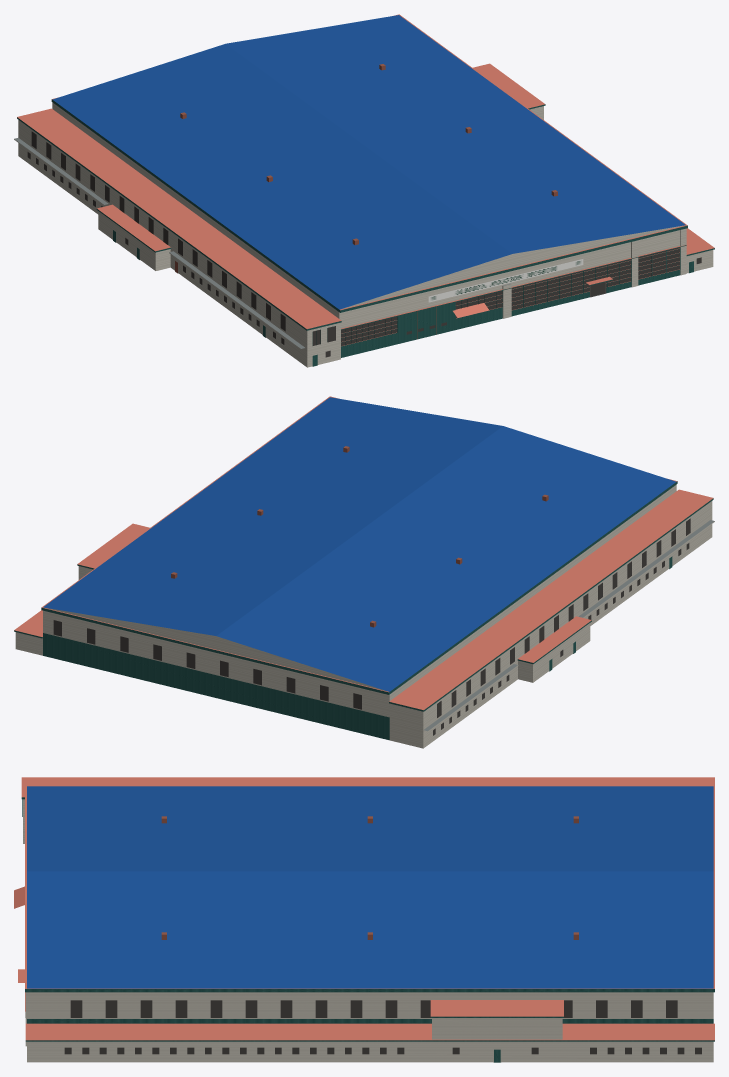
File: cyxd_hangar14_lod2.gltf
3 views of the same model, one above another, from view 1: azimuth 30°, elevation 25°; view 2: azimuth 150°, elevation 25°; view 3: azimuth 270°, elevation 25° (orthographic). The views are drawn at different scales.
Visible parts, largest first — view 1: cyxd_hangar14; view 2: cyxd_hangar14; view 3: cyxd_hangar14.
Boxes of the visible parts, <box> form: cyxd_hangar14: <box>14,14,714,367</box>; cyxd_hangar14: <box>14,396,714,748</box>; cyxd_hangar14: <box>14,777,714,1062</box>.
Bounding box in the file's own units: 85.4 × 11.9 × 102.
